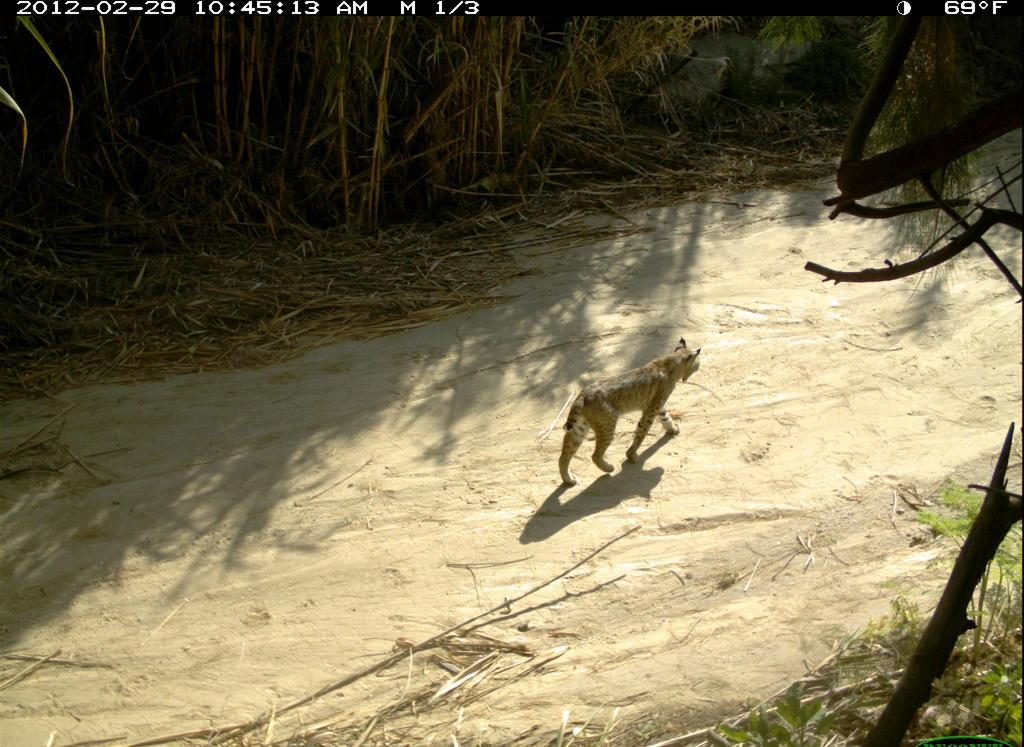bobcat: (556, 337, 713, 486)
